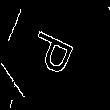P_SE: (27, 28, 83, 82)
